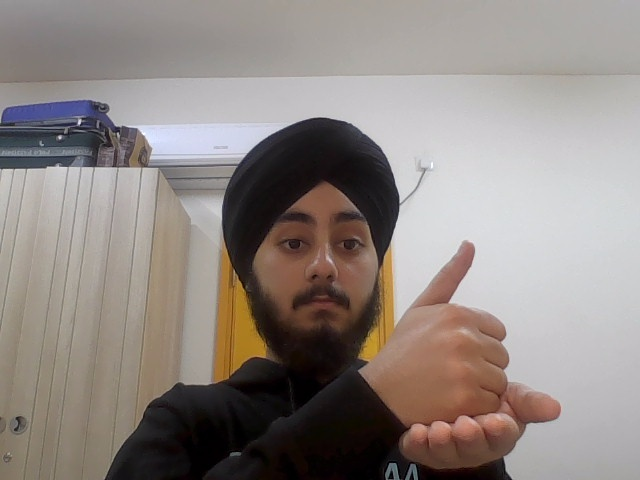Help: (399, 234, 564, 469)
